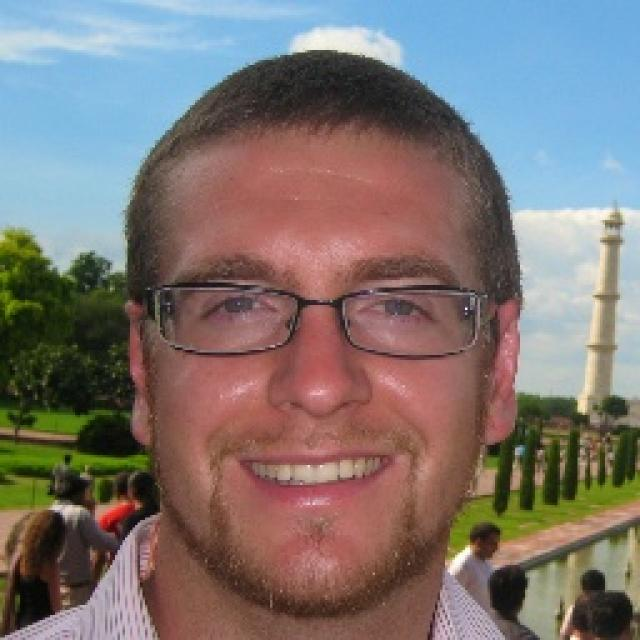earlobe: (481, 388, 518, 442), (129, 402, 151, 443)
eye: (360, 295, 433, 324), (204, 294, 277, 318)
nose: (270, 401, 368, 440)
wholeear: (482, 299, 519, 442), (124, 296, 154, 442)
